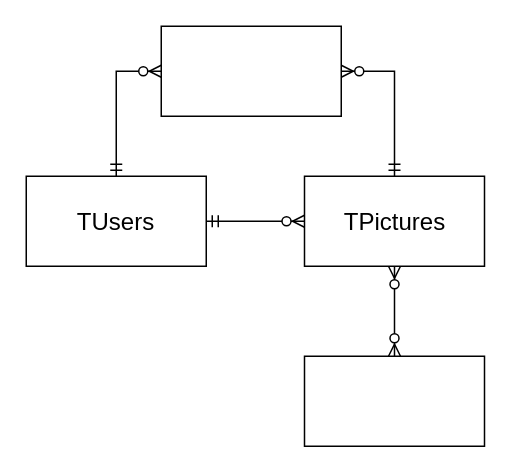
Image size: 512x473. Some labels were removed from this diagram. Here are the shapes that lost their labels. From the top down, the centre of each, then its label:
pixel 250 70: TInteractions
pixel 393 400: TTags
